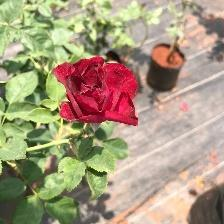rose: (53, 56, 141, 129)
